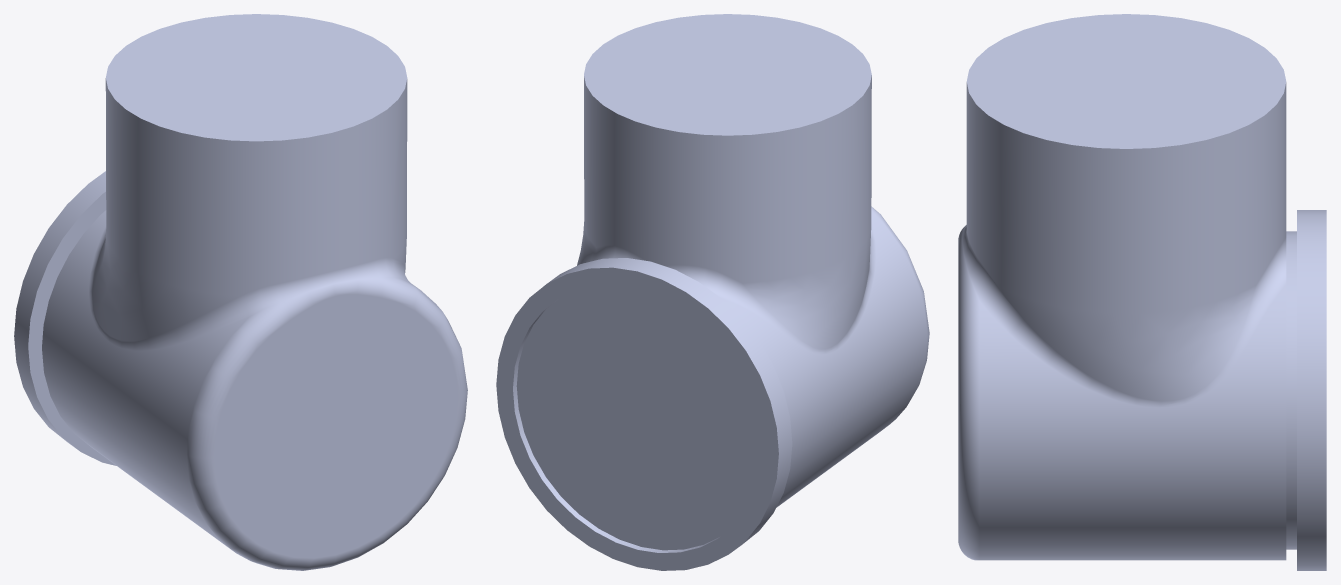
3 renders of one model, left to right at view 1: azimuth 30°, elevation 25°; view 2: azimuth 150°, elevation 25°; view 3: azimuth 270°, elevation 25°, orthographic. The views are drawn at different scales.
Parts seen in each view (by area): view 1: Link-6; view 2: Link-6; view 3: Link-6.
Boxes of the visible parts, x1,y1,x2,y2 form: Link-6: [14, 14, 467, 570]; Link-6: [496, 14, 929, 570]; Link-6: [958, 14, 1326, 570].
Size of the model in its own units: 0.085 by 0.1225 by 0.0865.
